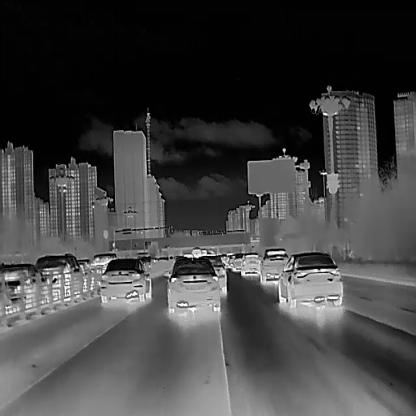car: (277, 251, 342, 308), (162, 256, 220, 312), (33, 252, 83, 306), (0, 263, 45, 312), (98, 258, 148, 302), (258, 247, 289, 284), (88, 251, 116, 289), (239, 251, 260, 275), (231, 251, 240, 271)
truck: (191, 247, 200, 258)
